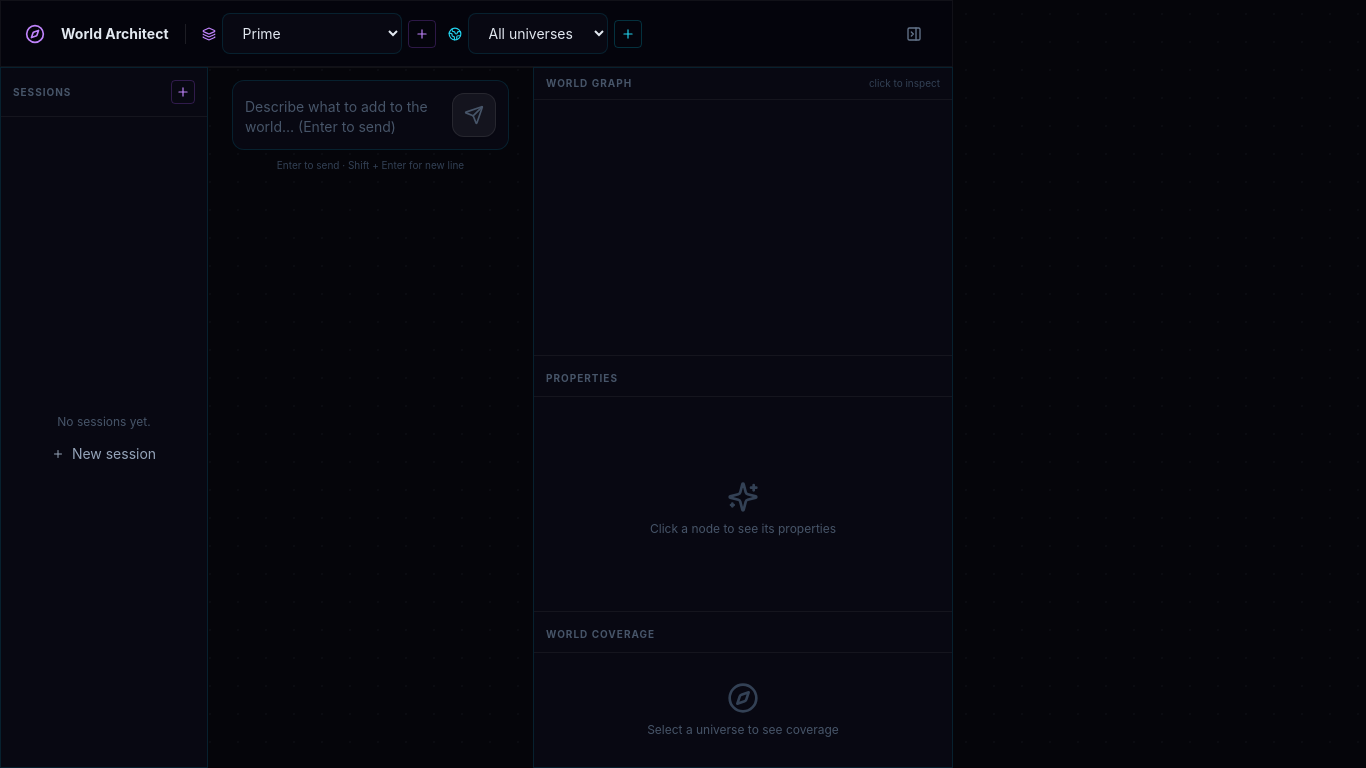
Test: Architect page — gap-driven building (F2-1) › clicking a coverage gap injects the suggested prompt into the composer
Select "Aethoria" in the 2nd dropdown showing "All universes": (538, 34) x1=468 y1=13 x2=608 y2=54
(page scrolled)
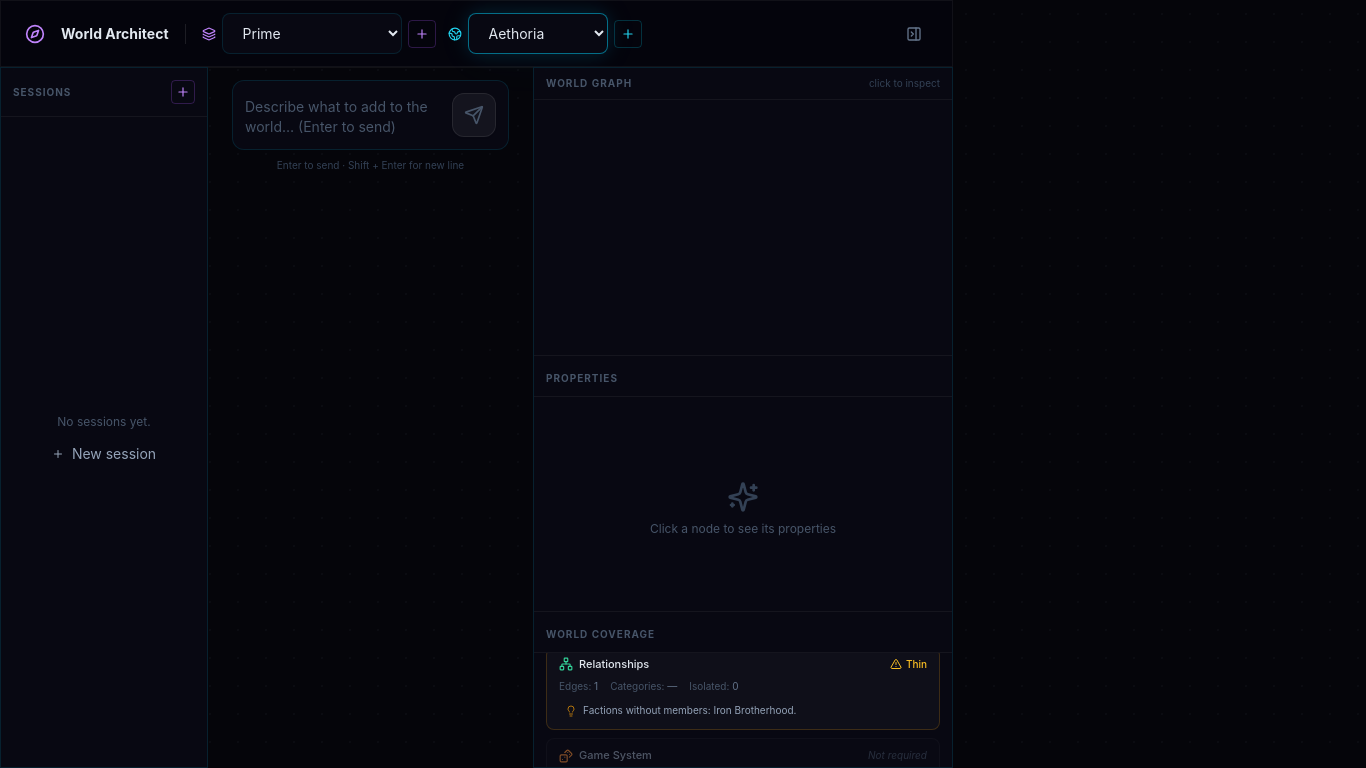
Result: the text "Factions without members: Iron Brotherhood." is shown at x1=583 y1=704 x2=796 y2=717
Click the button "Factions without members: Iron Brotherhood.": (743, 710) x1=559 y1=700 x2=927 y2=721
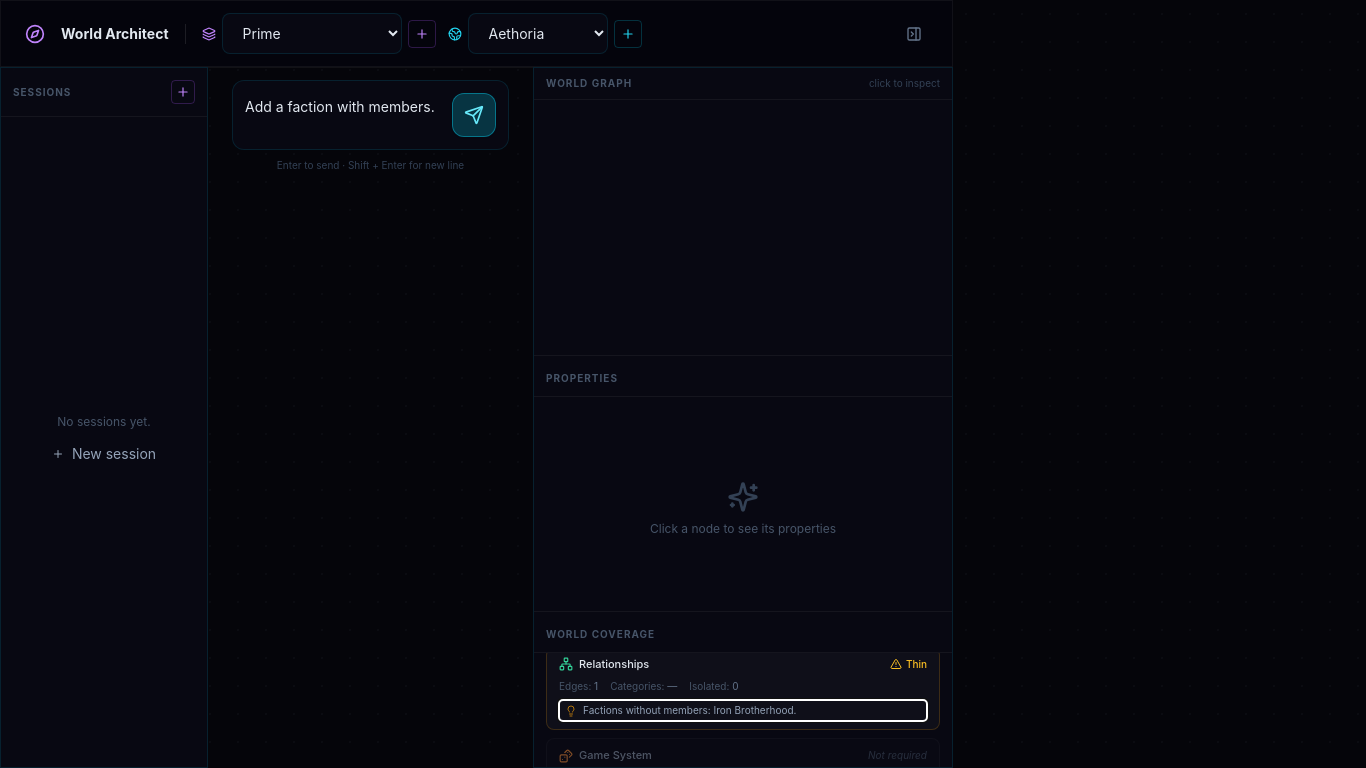
Result: the text box with placeholder "Describe what to add to the world… (Enter to send)" holds "Add a faction with members." at x1=245 y1=97 x2=440 y2=137
